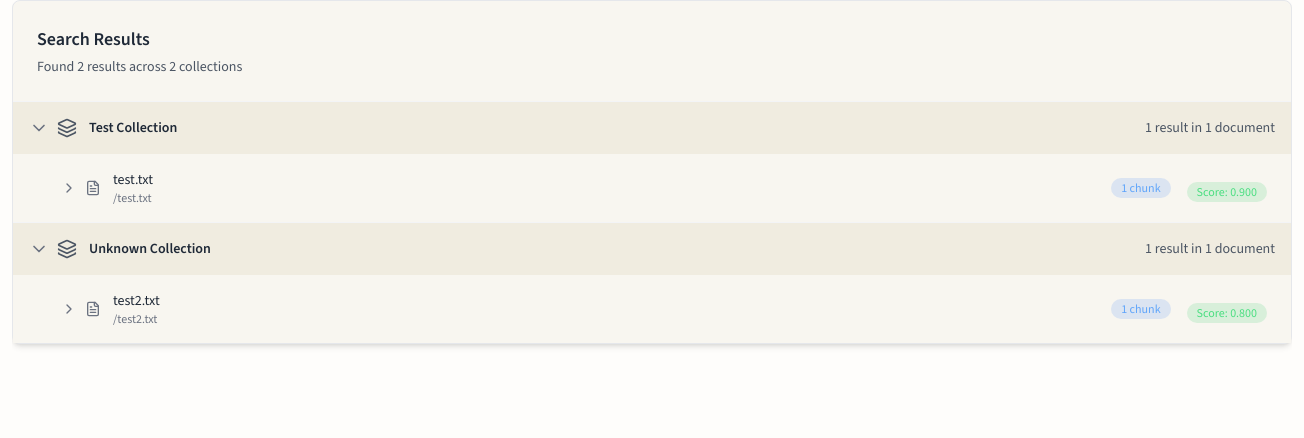
it: Search Results - Validation and Partial Failure Handling › Result Validation and Display › should handle malformed search results gracefully
Expected: the heading "Unknown Collection" is shown, x1=89 y1=239 x2=211 y2=259
Note: Expand the document with valid content
Step 1. Click the text "test2.txt" → click(136, 300), box x1=61 y1=291 x2=1267 y2=327
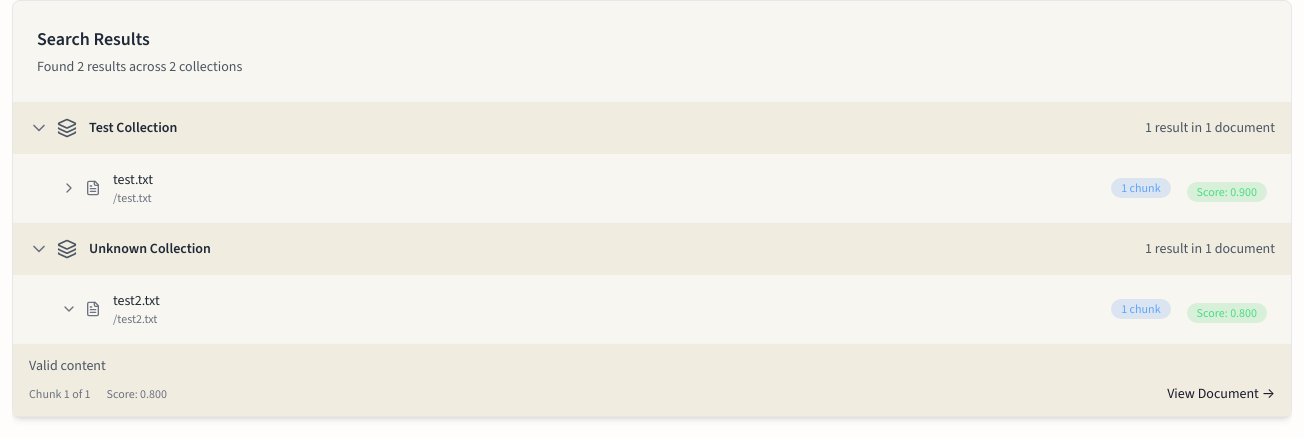
Expected: the text "Valid content" is shown, x1=29 y1=356 x2=106 y2=375
